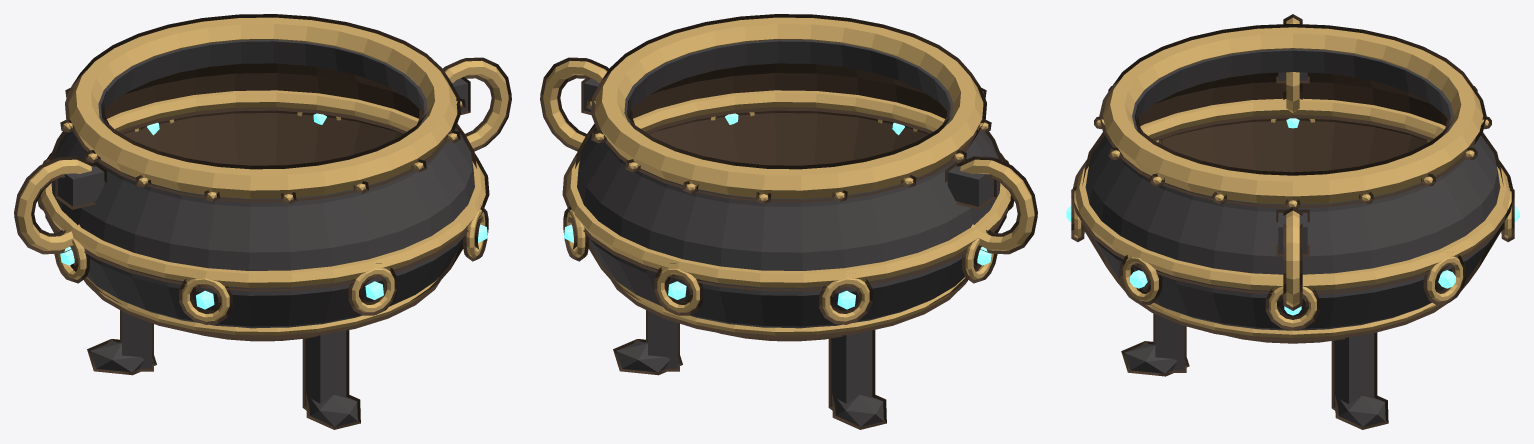
File: cauldron_big.glb
3 views of the same model, side by side, from view 1: azimuth 30°, elevation 25°; view 2: azimuth 150°, elevation 25°; view 3: azimuth 270°, elevation 25° (orthographic). The views are drawn at different scales.
Visible parts, largest first — view 1: CauldronBody, CauldronRim, RuneBand, LowerBand, Handle-1, Leg2, Handle1, Lug-1, Medallion5, Medallion6, Claw2, Leg1 (+3 smaller); view 2: CauldronBody, CauldronRim, RuneBand, LowerBand, Handle-1, Leg1, Handle1, Lug-1, Medallion3, Medallion2, Claw1, Leg0 (+3 smaller); view 3: CauldronBody, CauldronRim, RuneBand, LowerBand, Leg0, Handle1, Leg2, Claw0, Medallion0, Claw2, Medallion1, Medallion7 (+4 smaller).
Boxes of the visible parts, bbox=[...] form: CauldronBody: bbox=[45, 39, 476, 341]; CauldronRim: bbox=[65, 14, 460, 202]; RuneBand: bbox=[38, 90, 489, 291]; LowerBand: bbox=[84, 277, 440, 338]; Handle-1: bbox=[14, 156, 95, 254]; Leg2: bbox=[302, 330, 349, 409]; Handle1: bbox=[419, 57, 511, 151]; Lug-1: bbox=[55, 159, 106, 209]; Medallion5: bbox=[179, 278, 232, 324]; Medallion6: bbox=[348, 263, 397, 315]; Claw2: bbox=[306, 394, 360, 429]; Leg1: bbox=[120, 310, 153, 371]; CauldronBody: bbox=[575, 39, 1006, 341]; CauldronRim: bbox=[591, 14, 986, 202]; RuneBand: bbox=[562, 90, 1013, 291]; LowerBand: bbox=[611, 277, 967, 338]; Handle-1: bbox=[956, 156, 1037, 254]; Leg1: bbox=[828, 330, 875, 409]; Handle1: bbox=[540, 57, 632, 151]; Lug-1: bbox=[945, 159, 996, 209]; Medallion3: bbox=[819, 278, 872, 324]; Medallion2: bbox=[654, 263, 703, 315]; Claw1: bbox=[832, 394, 886, 429]; Leg0: bbox=[646, 310, 679, 371]; CauldronBody: bbox=[1081, 49, 1504, 343]; CauldronRim: bbox=[1099, 24, 1486, 207]; RuneBand: bbox=[1071, 98, 1514, 294]; LowerBand: bbox=[1118, 283, 1467, 341]; Leg0: bbox=[1331, 332, 1377, 410]; Handle1: bbox=[1283, 207, 1302, 310]; Leg2: bbox=[1153, 313, 1186, 372]; Claw0: bbox=[1335, 395, 1388, 429]; Medallion0: bbox=[1265, 286, 1320, 330]; Claw2: bbox=[1121, 341, 1189, 376]; Medallion1: bbox=[1423, 255, 1466, 304]; Medallion7: bbox=[1119, 255, 1162, 304].
Size of the model in its own units: 1.92 by 1.03 by 1.55.
